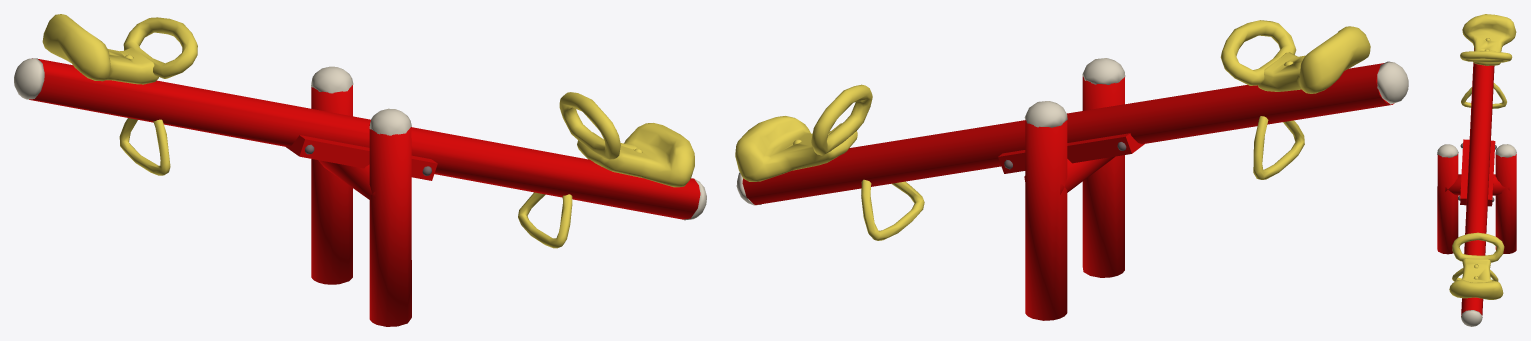
Rendered from seesaw.fbx.
3 views of the same model, side by side, from view 1: azimuth 30°, elevation 25°; view 2: azimuth 150°, elevation 25°; view 3: azimuth 270°, elevation 25° (orthographic). The views are drawn at different scales.
Parts seen in each view (by area): view 1: Cylinder11111595.001, Cylinder11111595; view 2: Cylinder11111595.001, Cylinder11111595; view 3: Cylinder11111595.001, Cylinder11111595.
Boxes of the visible parts, x1=… form: Cylinder11111595.001: x1=14, y1=14, x2=706, y2=248; Cylinder11111595: x1=311, y1=66, x2=411, y2=326; Cylinder11111595.001: x1=735, y1=20, x2=1408, y2=240; Cylinder11111595: x1=1024, y1=58, x2=1125, y2=320; Cylinder11111595.001: x1=1449, y1=14, x2=1516, y2=326; Cylinder11111595: x1=1437, y1=144, x2=1516, y2=254.
Bounding box in the file's own units: 183 × 86.21 × 37.39.
